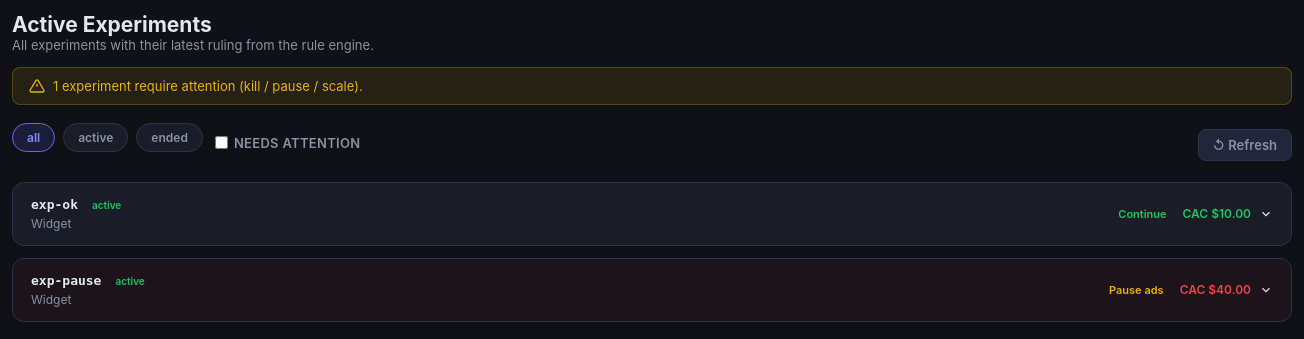
ActiveExperiments lifecycle wiring › filters to needs-attention experiments
What coordinates should you click on to do the following:
click the checkbox labelled "Needs attention"
I would click on:
 (221, 142)
Its box is left=215, top=136, right=228, bottom=149.
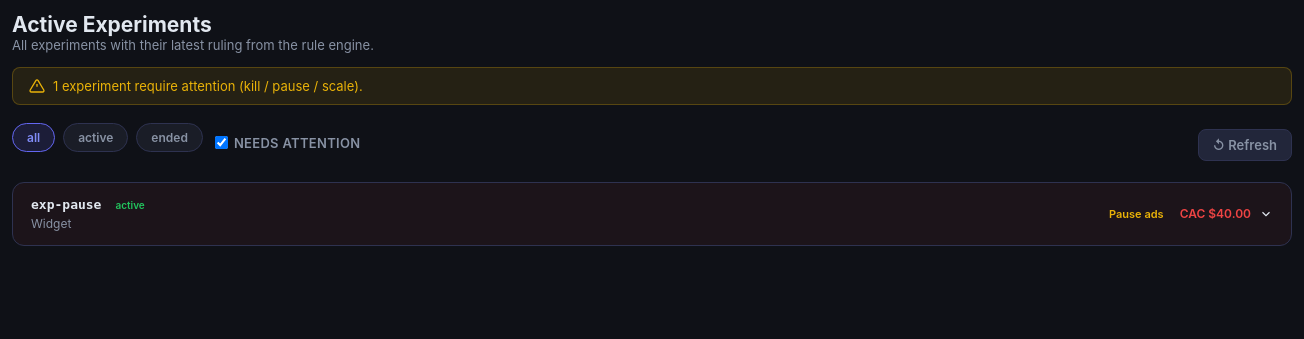
Check: the text "exp-pause" is shown, box left=31, top=197, right=102, bottom=212
Check: the text "exp-ok" is gone
